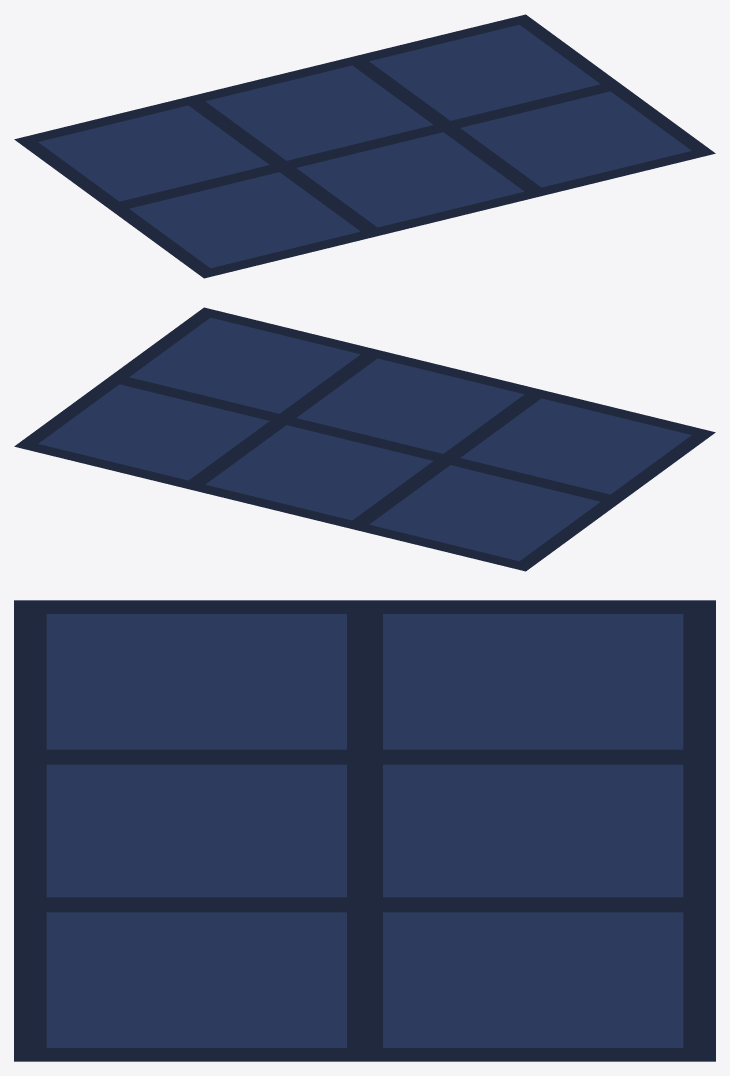
3 views of the same model, one above another, from view 1: azimuth 30°, elevation 25°; view 2: azimuth 150°, elevation 25°; view 3: azimuth 270°, elevation 25° (orthographic). The views are drawn at different scales.
Parts seen in each view (by area): view 1: Sm_Grid; view 2: Sm_Grid; view 3: Sm_Grid.
Boxes of the visible parts, bbox=[...] form: Sm_Grid: bbox=[14, 14, 715, 278]; Sm_Grid: bbox=[14, 307, 715, 571]; Sm_Grid: bbox=[14, 600, 715, 1061].
Size of the model in its own units: 370 by 2.56e-05 by 238.
